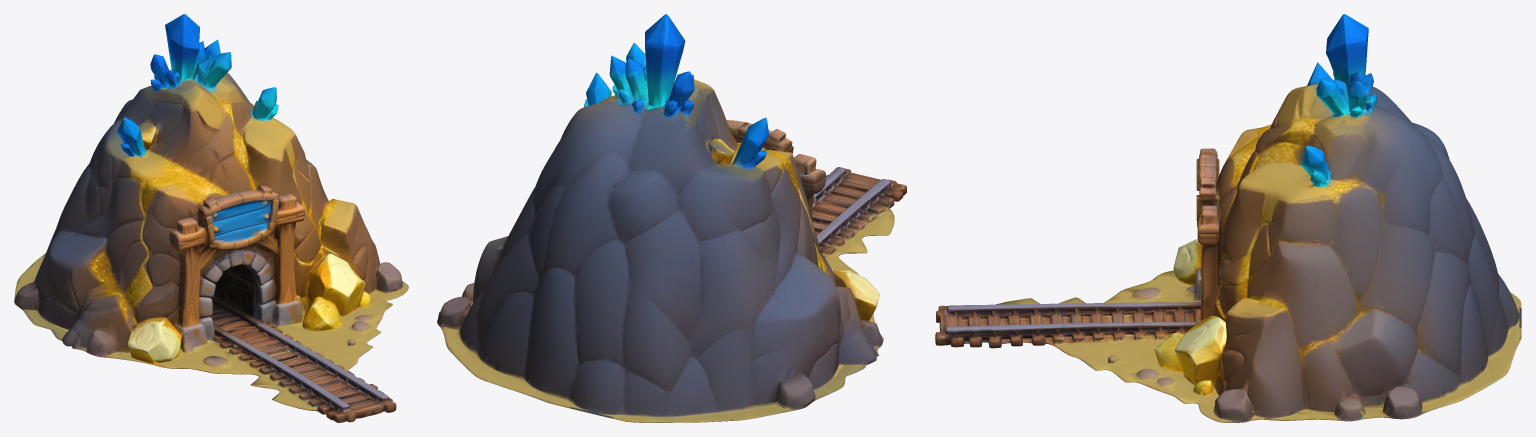
Rendered from gold_mine.glb.
3 views of the same model, side by side, from view 1: azimuth 30°, elevation 25°; view 2: azimuth 150°, elevation 25°; view 3: azimuth 270°, elevation 25° (orthographic). The views are drawn at different scales.
Parts seen in each view (by area): view 1: node_0_LOD0; view 2: node_0_LOD0; view 3: node_0_LOD0.
Boxes of the visible parts, box(x1,y1,x2,y2) form: node_0_LOD0: box(14, 14, 408, 422); node_0_LOD0: box(437, 14, 906, 422); node_0_LOD0: box(935, 14, 1521, 422).
Size of what is drawn, in the model's own units: 0.7305 by 0.6005 by 1.01.
Materials: 1 (1 with a texture image).
